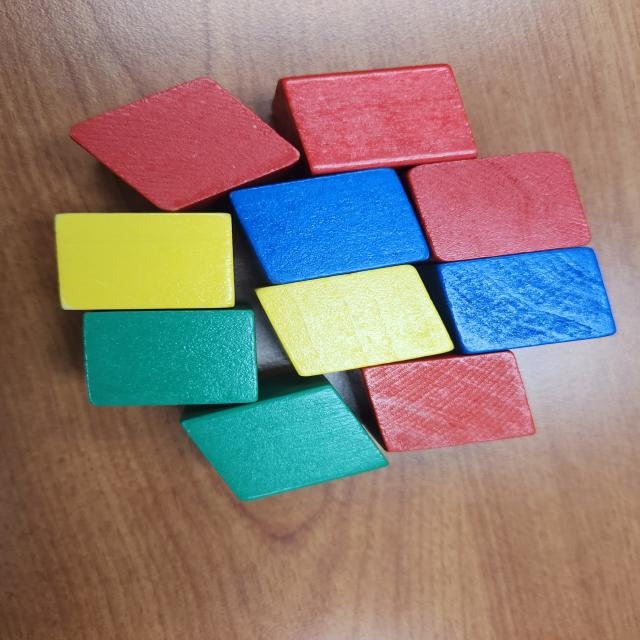blue: (232, 168, 436, 286), (416, 248, 620, 354)
green: (179, 370, 394, 506), (81, 308, 261, 408)
red: (74, 78, 300, 214), (277, 65, 478, 175), (403, 152, 591, 260), (342, 350, 538, 452)
yellow: (257, 264, 456, 379), (54, 211, 236, 309)
